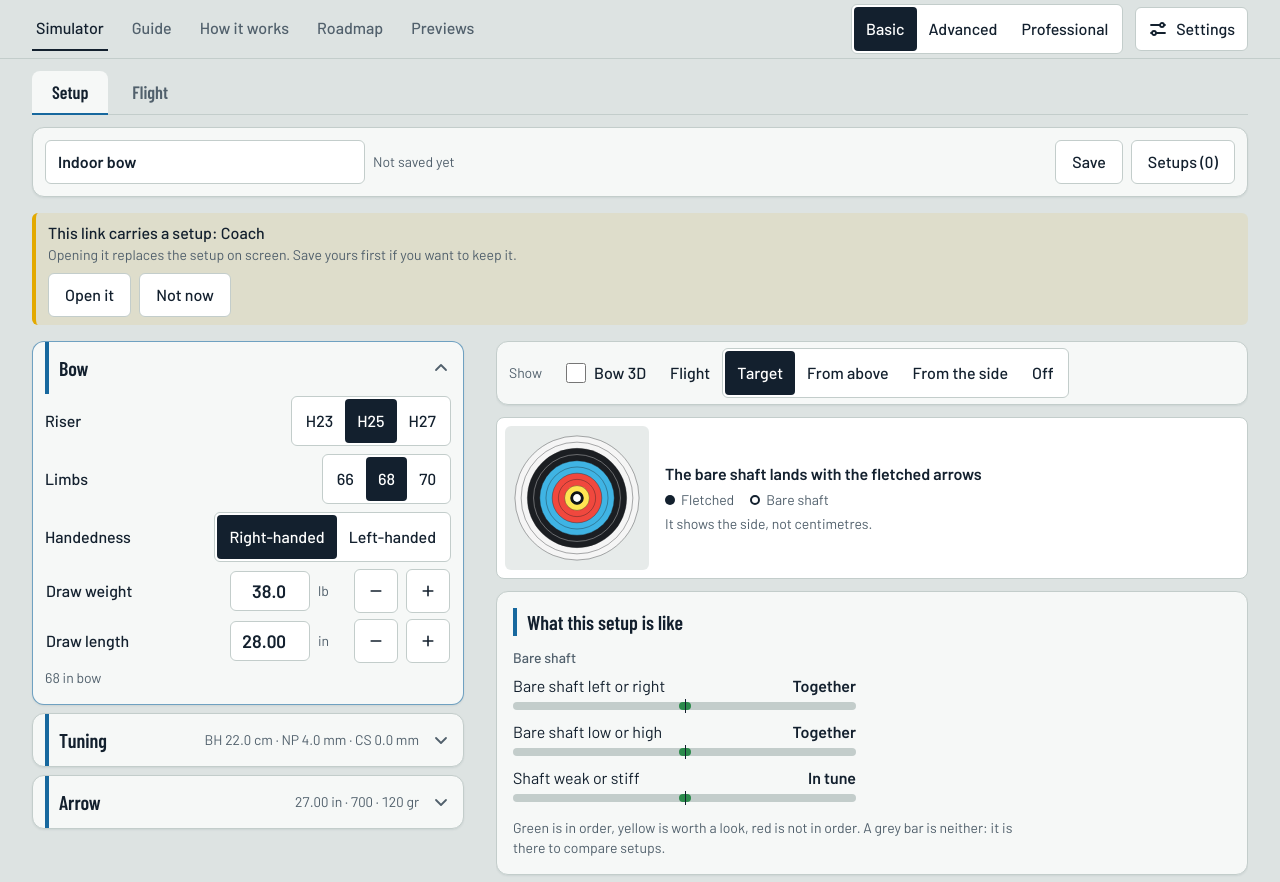
Scenario: opening a link › offers the setup and opens it only when asked
The width and height of the screenshot is (1280, 882).
Expected: the text "This link carries a setup: Coach" is shown, x1=48 y1=223 x2=265 y2=242
Click the button "Open it" at point(90, 295), box x1=48 y1=273 x2=131 y2=317
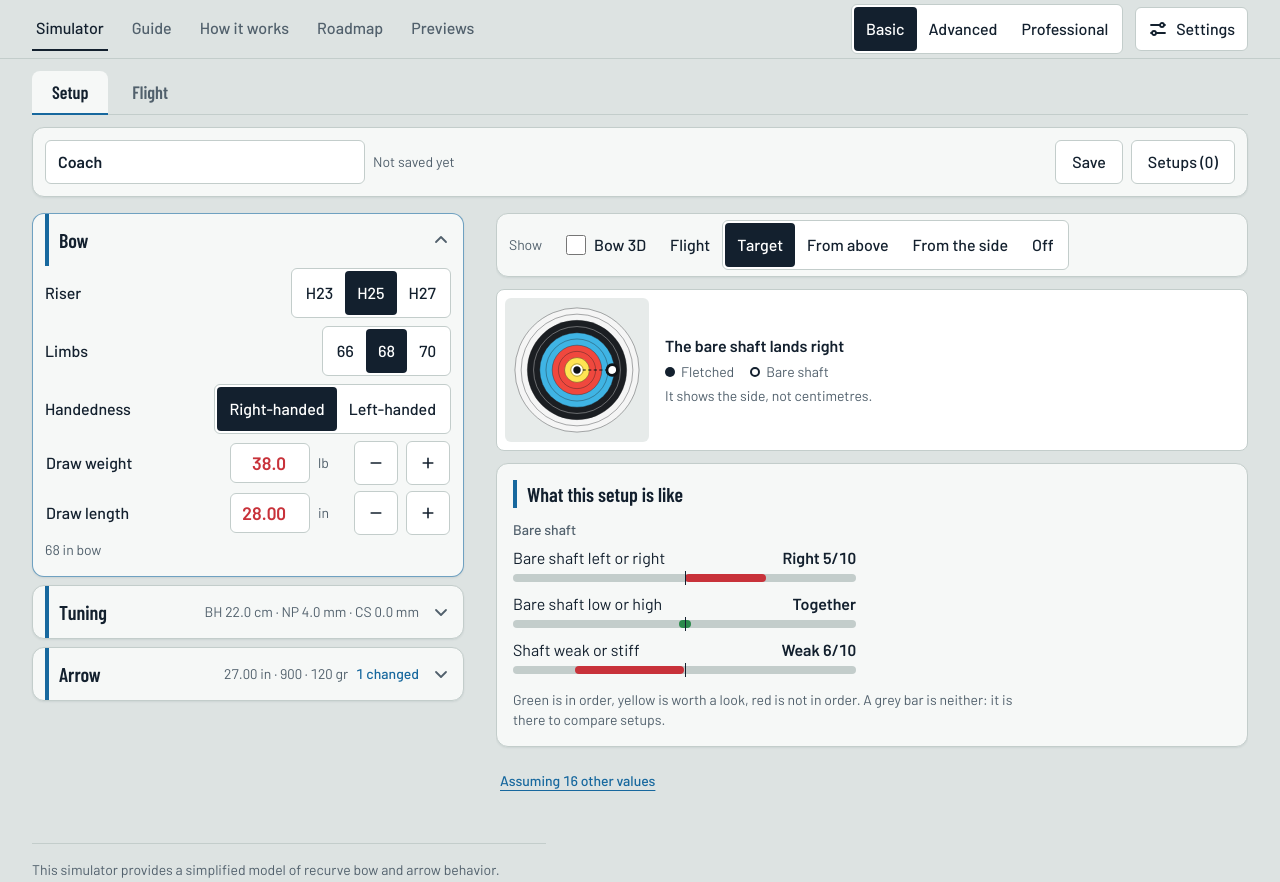
Expected: the text "This link carries" is gone
